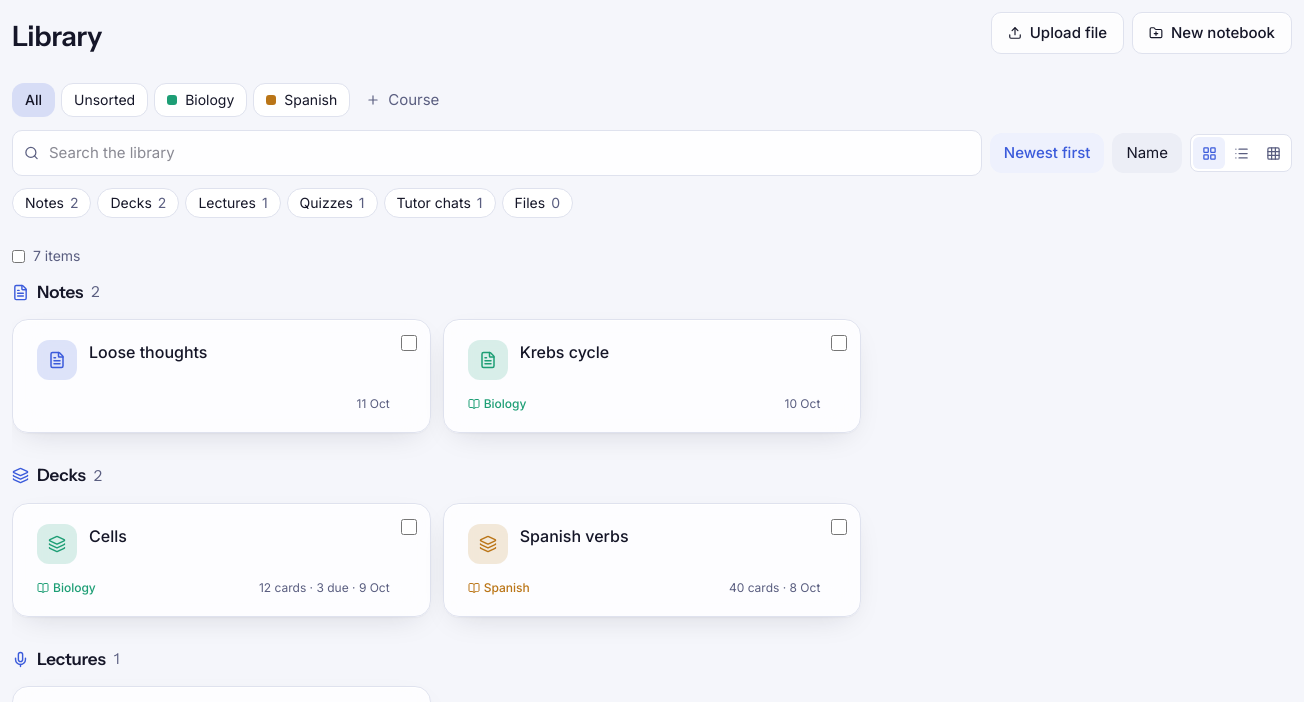
it: Library › moving › selects every visible item that can move
Click the checkbox named "Select all shown": click(18, 256) [12,250,25,262]
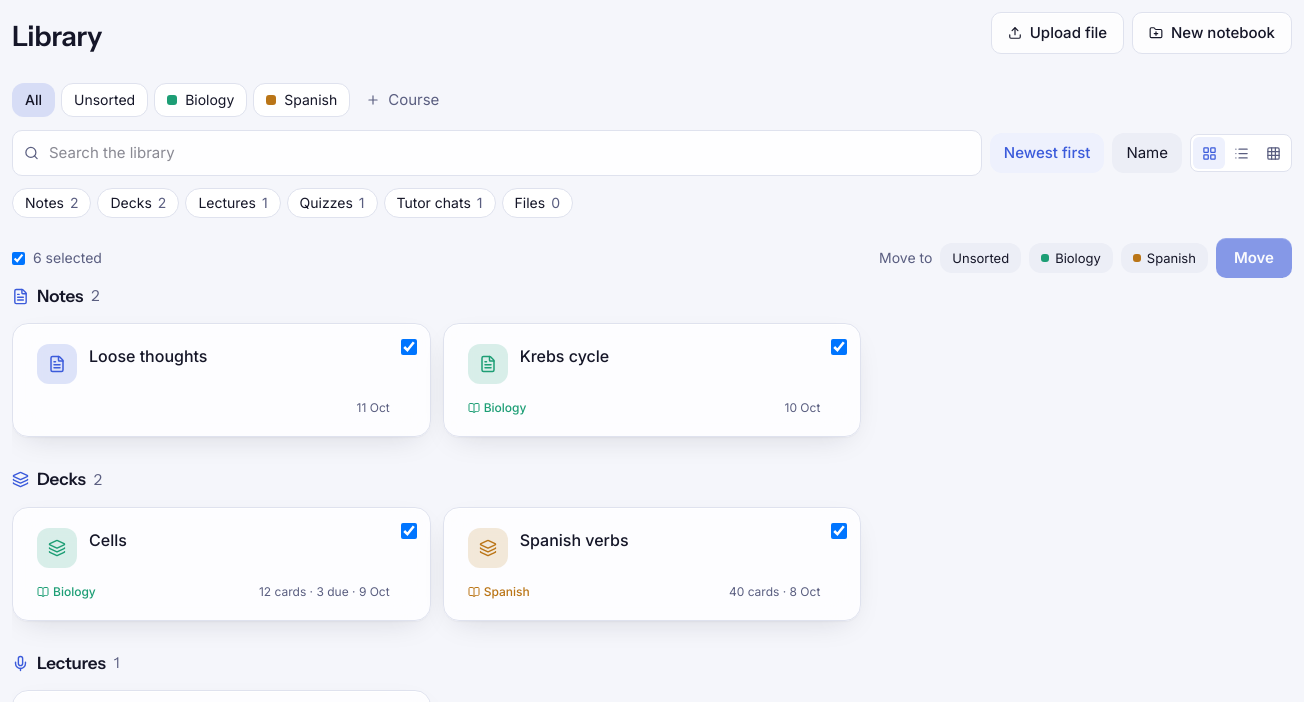
expect the text "6 selected" is shown: met, box [33,248,102,268]
